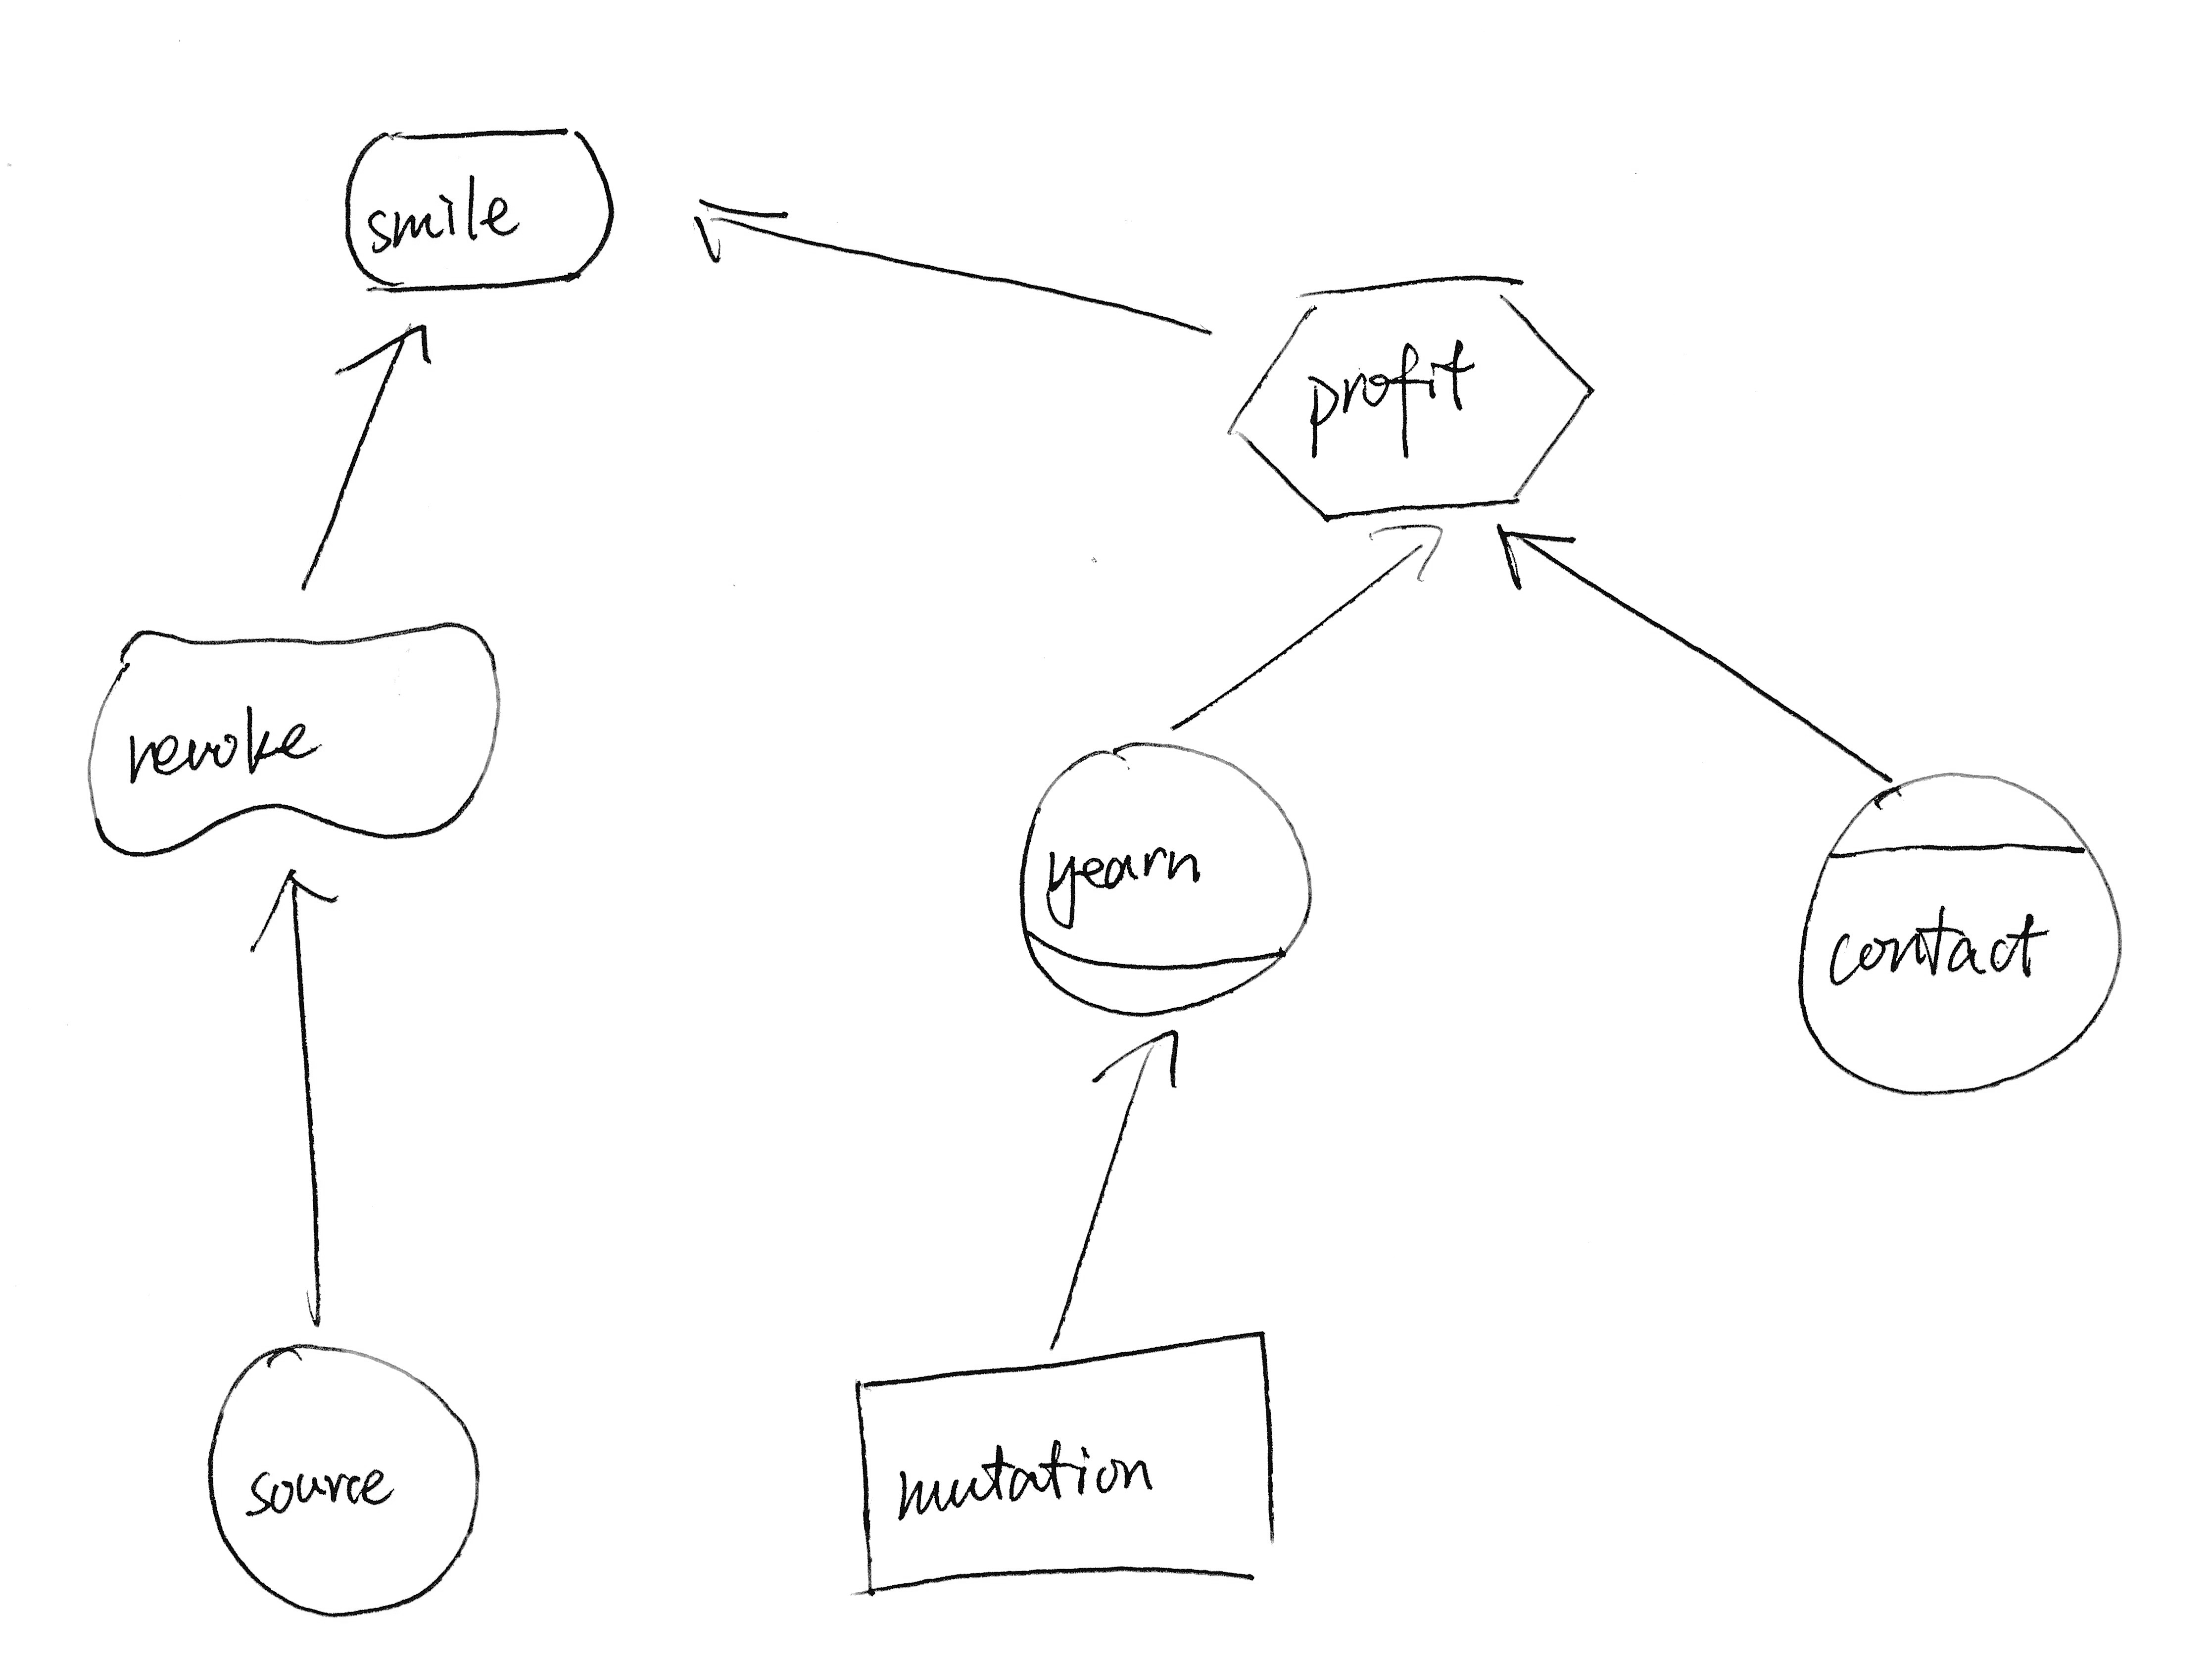actor: (190, 1326, 498, 1630)
agent: (1779, 760, 2133, 1109)
arrow: (230, 858, 351, 959), (319, 306, 440, 404), (677, 176, 798, 274), (1084, 1020, 1199, 1104), (1482, 515, 1587, 596), (1367, 521, 1449, 603)
goal: (335, 101, 627, 309)
quality: (68, 606, 513, 866)
resource: (828, 1317, 1297, 1618)
role: (1006, 721, 1322, 1027)
task: (1205, 252, 1611, 535)
